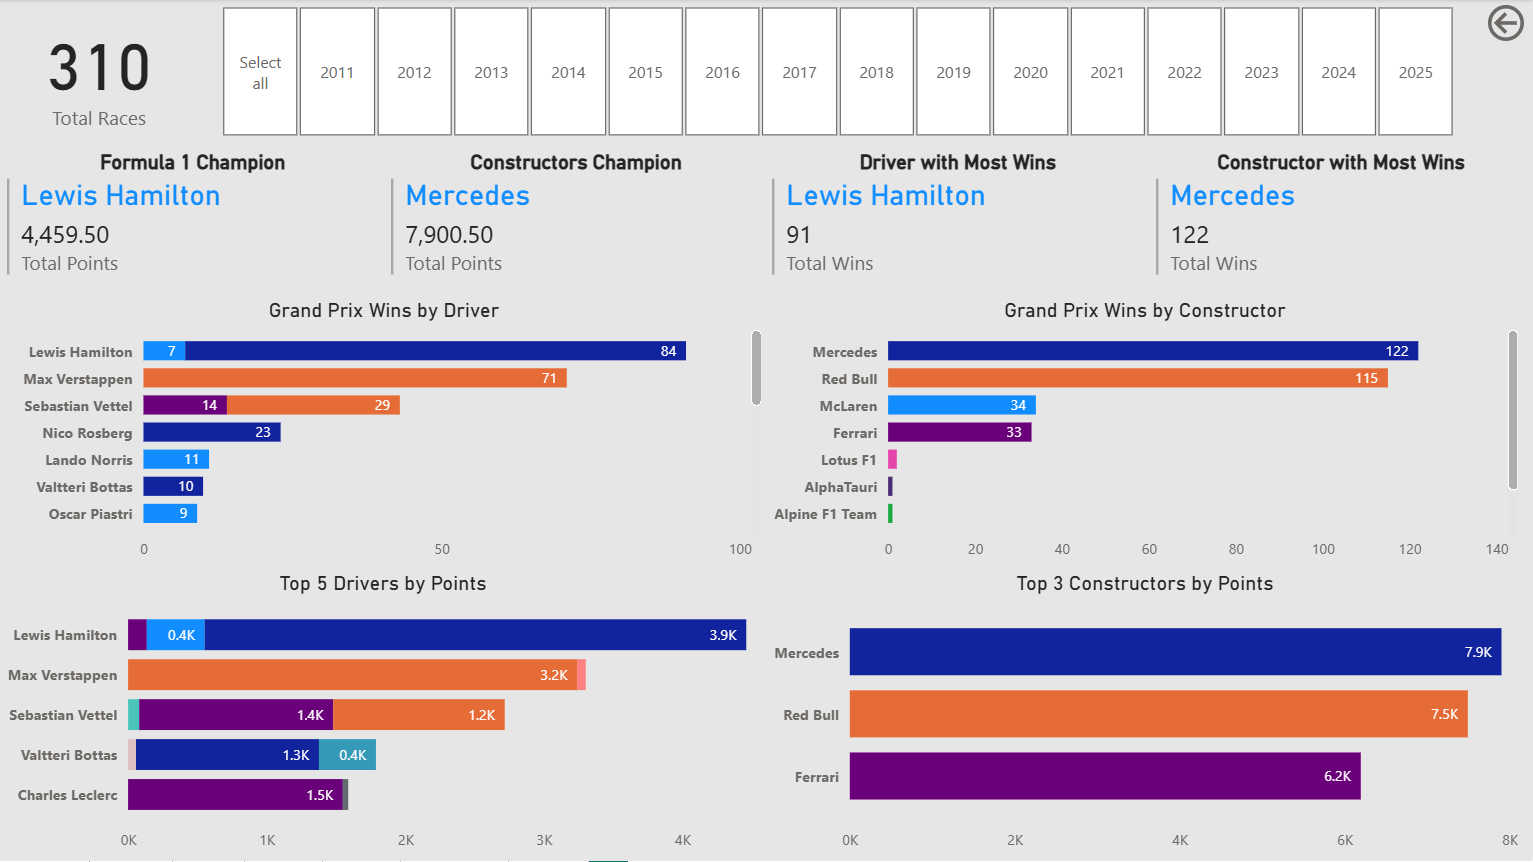

Layout of this report page (visuals, bound fields, positions):
{"tool":"powerbi","page":{"name":"Races","canvas":[1280,720],"ordinal":1},"visuals":[{"type":"slicer","fields":{"Values":["Seasons.year"]},"box":[160.3,0,1077.4,121.3],"z":0},{"type":"card","fields":{"Values":["CountNonNull(Races.raceId)"]},"box":[0,0,165.7,121.4],"z":1000},{"type":"barChart","title":"Top 5 Drivers by Points","fields":{"Category":["Drivers.DriverName"],"Y":["Sum(Results.points)"],"Series":["Constructors.ConstructorName"]},"box":[0,477.7,640,242.8],"z":2000},{"type":"barChart","title":"Top 3 Constructors by Points","fields":{"Category":["Constructors.ConstructorName"],"Y":["Sum(ConstructorResults.points)"],"Series":["Constructors.ConstructorName"]},"box":[640,477.7,633.2,242.8],"z":3000},{"type":"multiRowCard","title":"Formula 1 Champion","fields":{"Values":["_Measures.Top Driver Name with Most Points","_Measures.Top Driver Points with Most Points"]},"box":[1.1,121.3,320.6,128],"z":4000},{"type":"multiRowCard","title":"Constructors Champion","fields":{"Values":["_Measures.Top Constructor Name with Most Points","_Measures.Top Constructor All Time Points"]},"box":[321.7,121.3,319.4,128],"z":5000},{"type":"multiRowCard","title":"Driver with Most Wins","fields":{"Values":["_Measures.Top Driver Name with Most Wins","_Measures.Top Driver #Wins with Most Wins"]},"box":[640,121.3,320.6,128],"z":6000},{"type":"multiRowCard","title":"Constructor with Most Wins","fields":{"Values":["_Measures.Top Constructor name with Most Wins","_Measures.Top Constructor #Wins with Most Wins"]},"box":[960.6,121.3,319.4,128],"z":7000},{"type":"barChart","title":"Grand Prix Wins by Driver","fields":{"Category":["Drivers.DriverName"],"Y":["_Measures.Total Grand Prix Wins"],"Series":["Constructors.ConstructorName"]},"box":[1.1,249.6,640,228.1],"z":8000},{"type":"barChart","title":"Grand Prix Wins by Constructor","fields":{"Category":["Constructors.ConstructorName"],"Y":["_Measures.Total Grand Prix Wins"],"Series":["Constructors.ConstructorName"]},"box":[640,249.6,633.2,228.1],"z":9000},{"type":"actionButton","box":[1237.7,0,42.3,40.1],"z":10000}]}

Visuals, with their boxes in screenshot pixels (x1, y1, x2, y2), scaled from the page's 1280x720 canvas onto the 1533x862 screenshot:
slicer - Seasons.year: detection(192, 0, 1482, 145)
card - CountNonNull(Races.raceId): detection(0, 0, 198, 145)
"Top 5 Drivers by Points" barChart: detection(0, 572, 766, 861)
"Top 3 Constructors by Points" barChart: detection(766, 572, 1525, 861)
"Formula 1 Champion" multiRowCard: detection(1, 145, 385, 298)
"Constructors Champion" multiRowCard: detection(385, 145, 768, 298)
"Driver with Most Wins" multiRowCard: detection(766, 145, 1150, 298)
"Constructor with Most Wins" multiRowCard: detection(1150, 145, 1532, 298)
"Grand Prix Wins by Driver" barChart: detection(1, 299, 768, 572)
"Grand Prix Wins by Constructor" barChart: detection(766, 299, 1525, 572)
actionButton: detection(1482, 0, 1532, 48)
